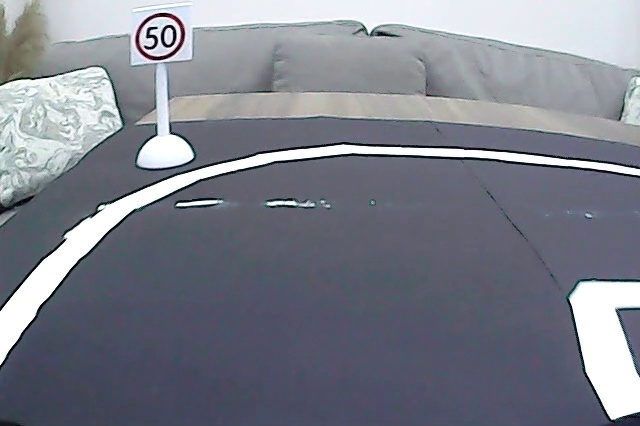speed limit 50: (134, 11, 187, 63)
